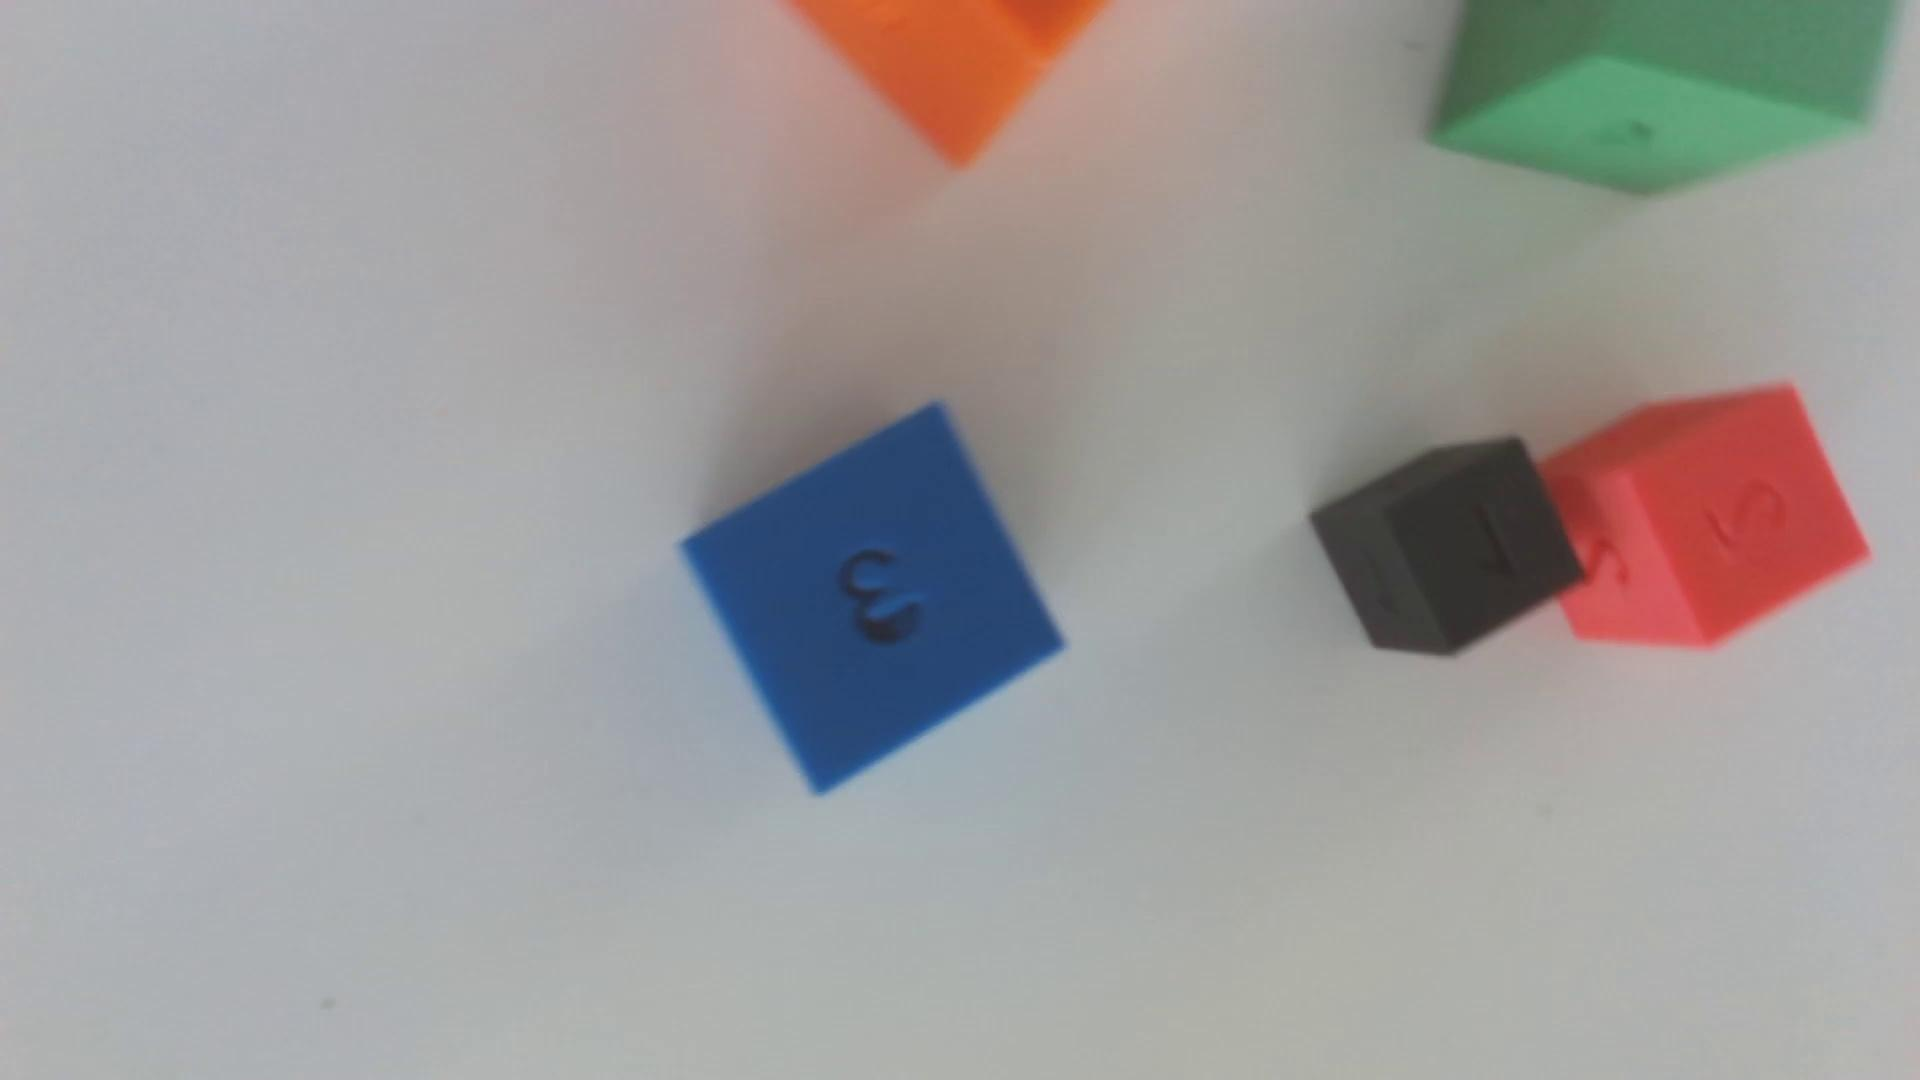black: (1311, 436, 1582, 655)
blue: (684, 404, 1063, 791)
green: (1429, 0, 1896, 194)
orange: (789, 0, 1106, 166)
red: (1540, 384, 1869, 647)
